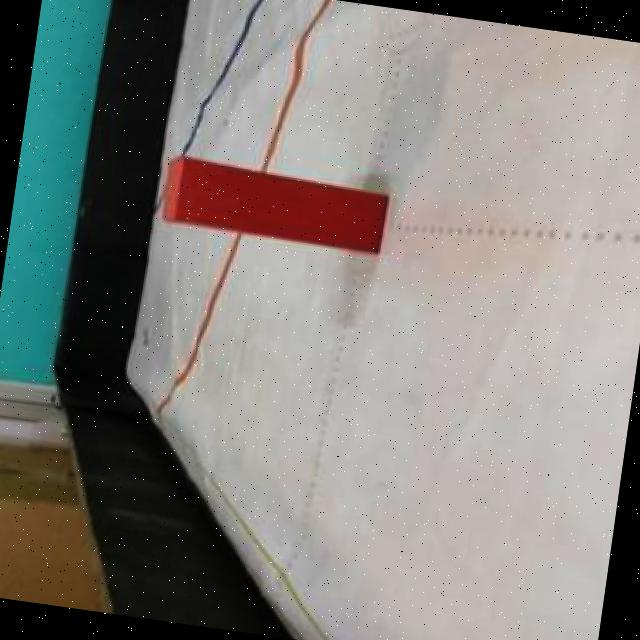redbox: (160, 156, 392, 255)
